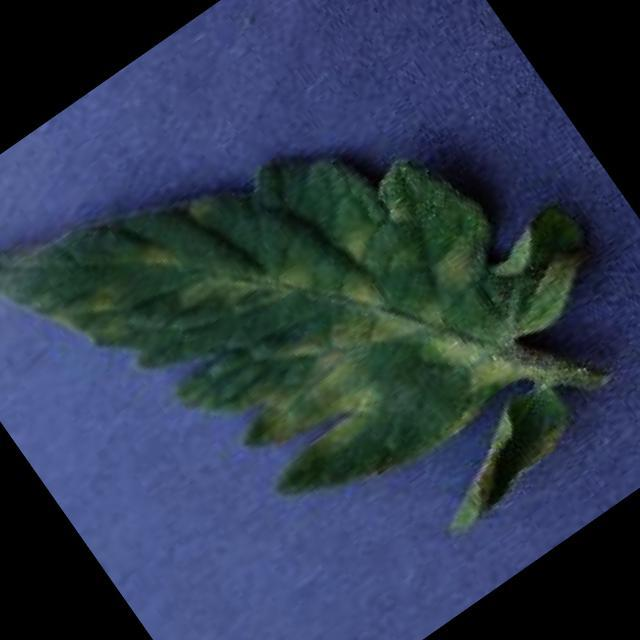Tomato mold leaf: (0, 0, 640, 615)
